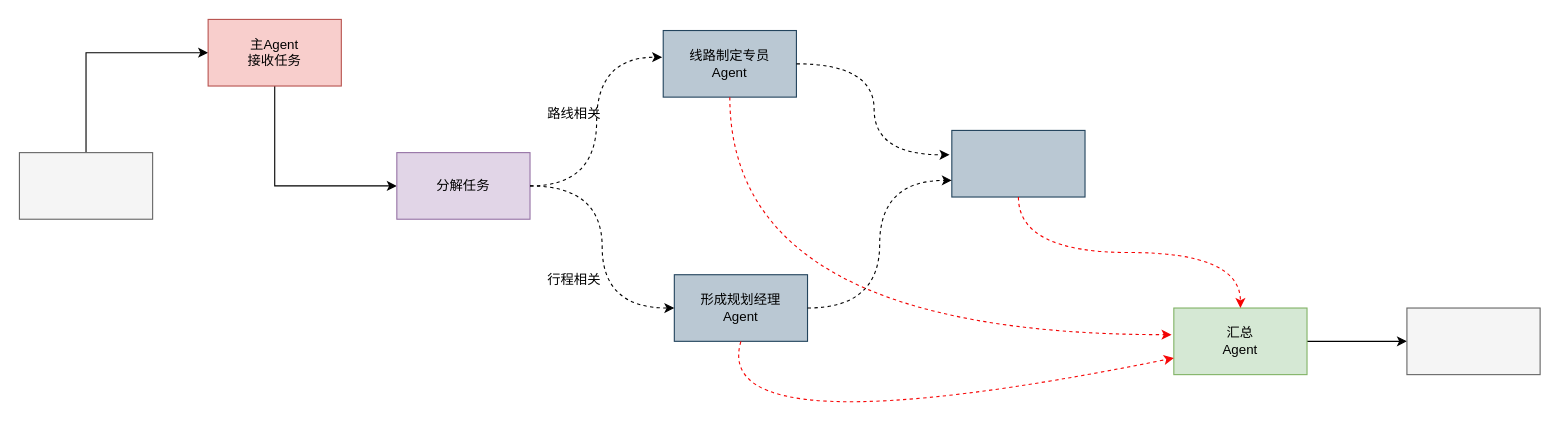
This 1560x422 diagram has some shape labels left out. Here are the shapes that lost their labels. From the top down, the centre of each, then its label:
At (x=1018, y=163): "费用统筹管家 Agent".
At (x=85, y=185): "用户 Prompt".
At (x=1473, y=341): "流式输出".
